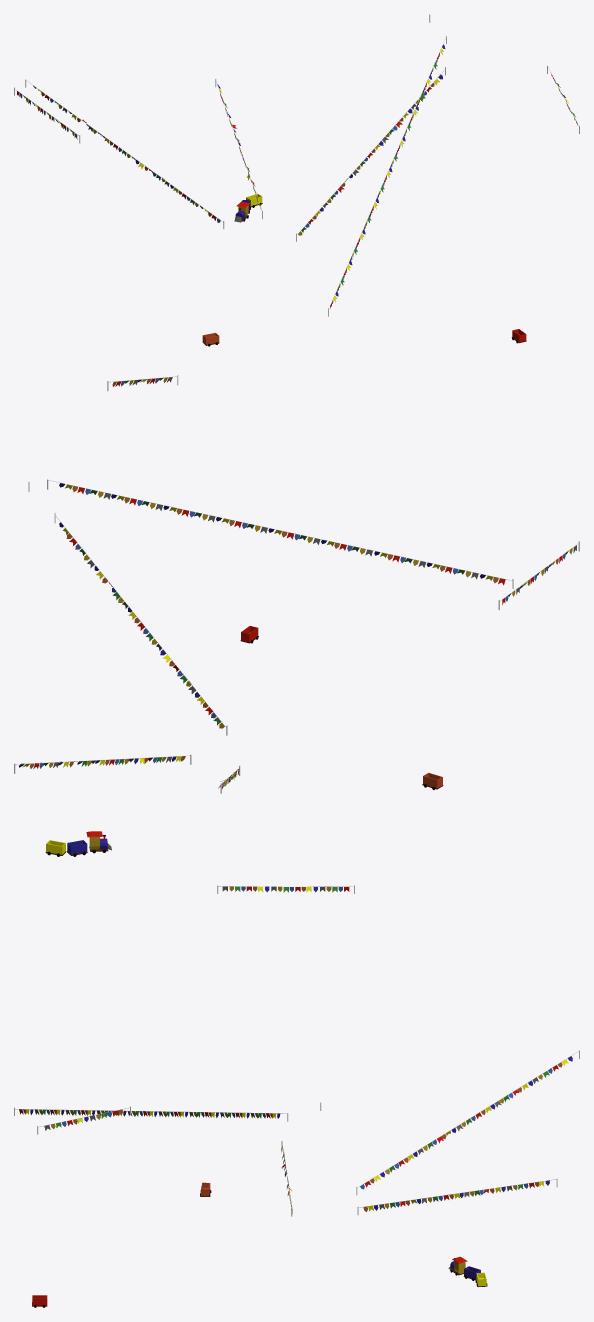
Rendered from Correções.fbx.
The picture shows the model from 3 angles, top to bottom: view 1: azimuth 30°, elevation 25°; view 2: azimuth 150°, elevation 25°; view 3: azimuth 270°, elevation 25°; orthographic projection. The views are drawn at different scales.
Parts seen in each view (by area): view 1: Bandeira2, Bandeira1, Bandeira4; view 2: Bandeira2, Bandeira1, Bandeira3; view 3: Bandeira2, Bandeira4, Bandeira3, Bandeira5.
Part boxes in pixels (x1=…): Bandeira2: x1=330, y1=44, x2=445, y2=308; Bandeira1: x1=298, y1=74, x2=442, y2=235; Bandeira4: x1=33, y1=85, x2=220, y2=222; Bandeira2: x1=59, y1=483, x2=505, y2=585; Bandeira1: x1=59, y1=522, x2=224, y2=728; Bandeira3: x1=19, y1=756, x2=185, y2=768; Bandeira2: x1=19, y1=1109, x2=280, y2=1118; Bandeira4: x1=360, y1=1056, x2=572, y2=1189; Bandeira3: x1=363, y1=1180, x2=549, y2=1211; Bandeira5: x1=222, y1=886, x2=349, y2=892.
Bounding box in the file's own units: 21197 × 11179 × 23290.
